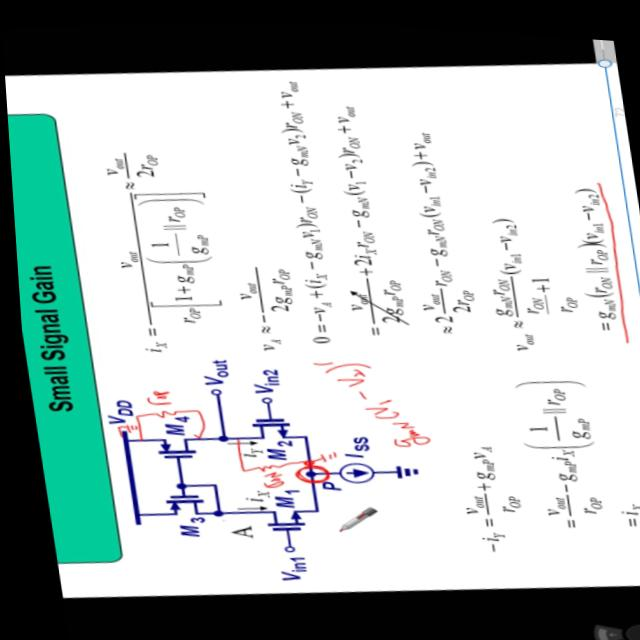panseo: (297, 324, 439, 485), (87, 377, 207, 463), (218, 423, 325, 499)
